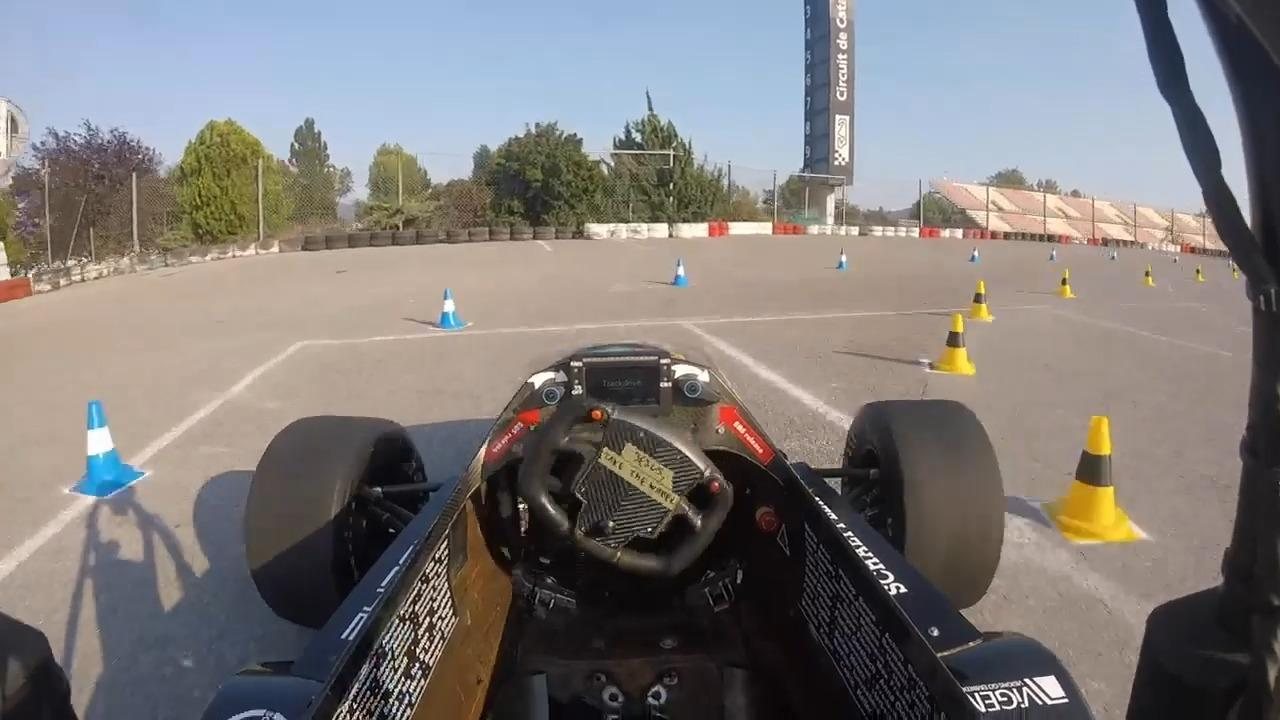blue_cone: (63, 395, 149, 504), (432, 284, 468, 330), (671, 255, 690, 287), (837, 249, 850, 273), (969, 244, 980, 263), (1049, 246, 1057, 262)
yellow_cone: (931, 314, 977, 378), (966, 279, 995, 322), (1057, 267, 1076, 298), (1140, 264, 1154, 286), (1194, 265, 1205, 282), (1231, 268, 1240, 279)
